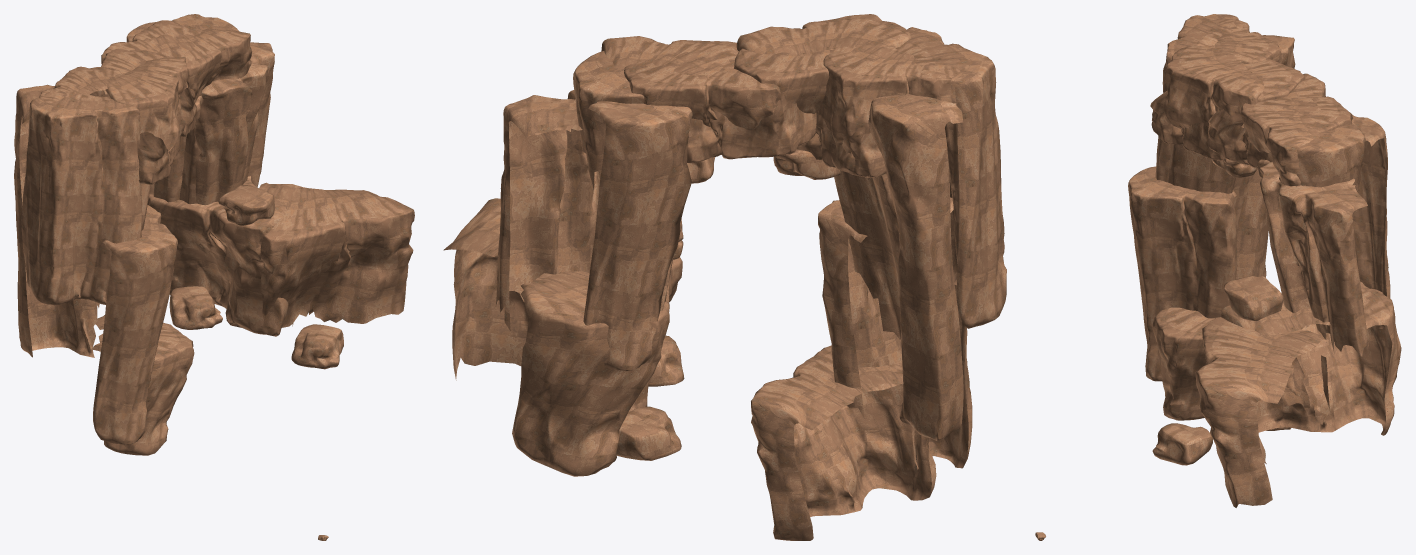
Rendered from Ob_RockCliff25.fbx.
The picture shows the model from 3 angles, left to right: view 1: azimuth 30°, elevation 25°; view 2: azimuth 150°, elevation 25°; view 3: azimuth 270°, elevation 25°; orthographic projection. The views are drawn at different scales.
Visible parts, largest first — view 1: Ob_RockCliff25; view 2: Ob_RockCliff25; view 3: Ob_RockCliff25.
Boxes of the visible parts, x1=… form: Ob_RockCliff25: x1=14, y1=14, x2=414, y2=540; Ob_RockCliff25: x1=443, y1=14, x2=1006, y2=540; Ob_RockCliff25: x1=1035, y1=14, x2=1401, y2=540.
Bounding box in the file's own units: 44223 × 46542 × 35841.
